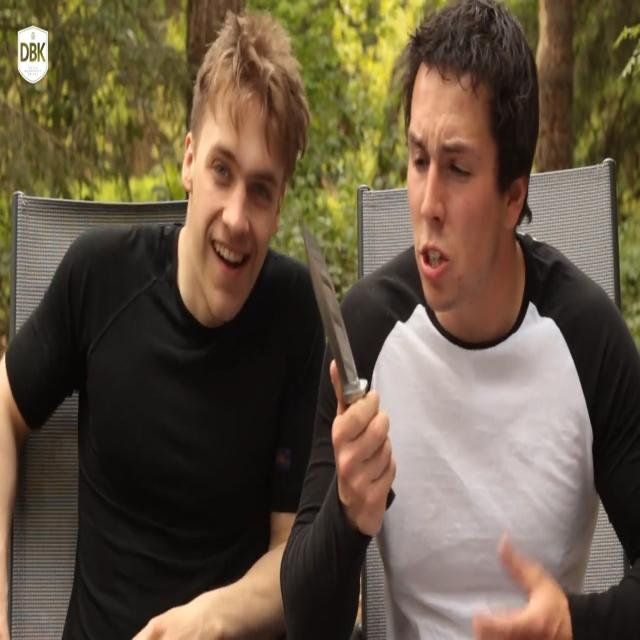knife: (300, 213, 366, 400)
